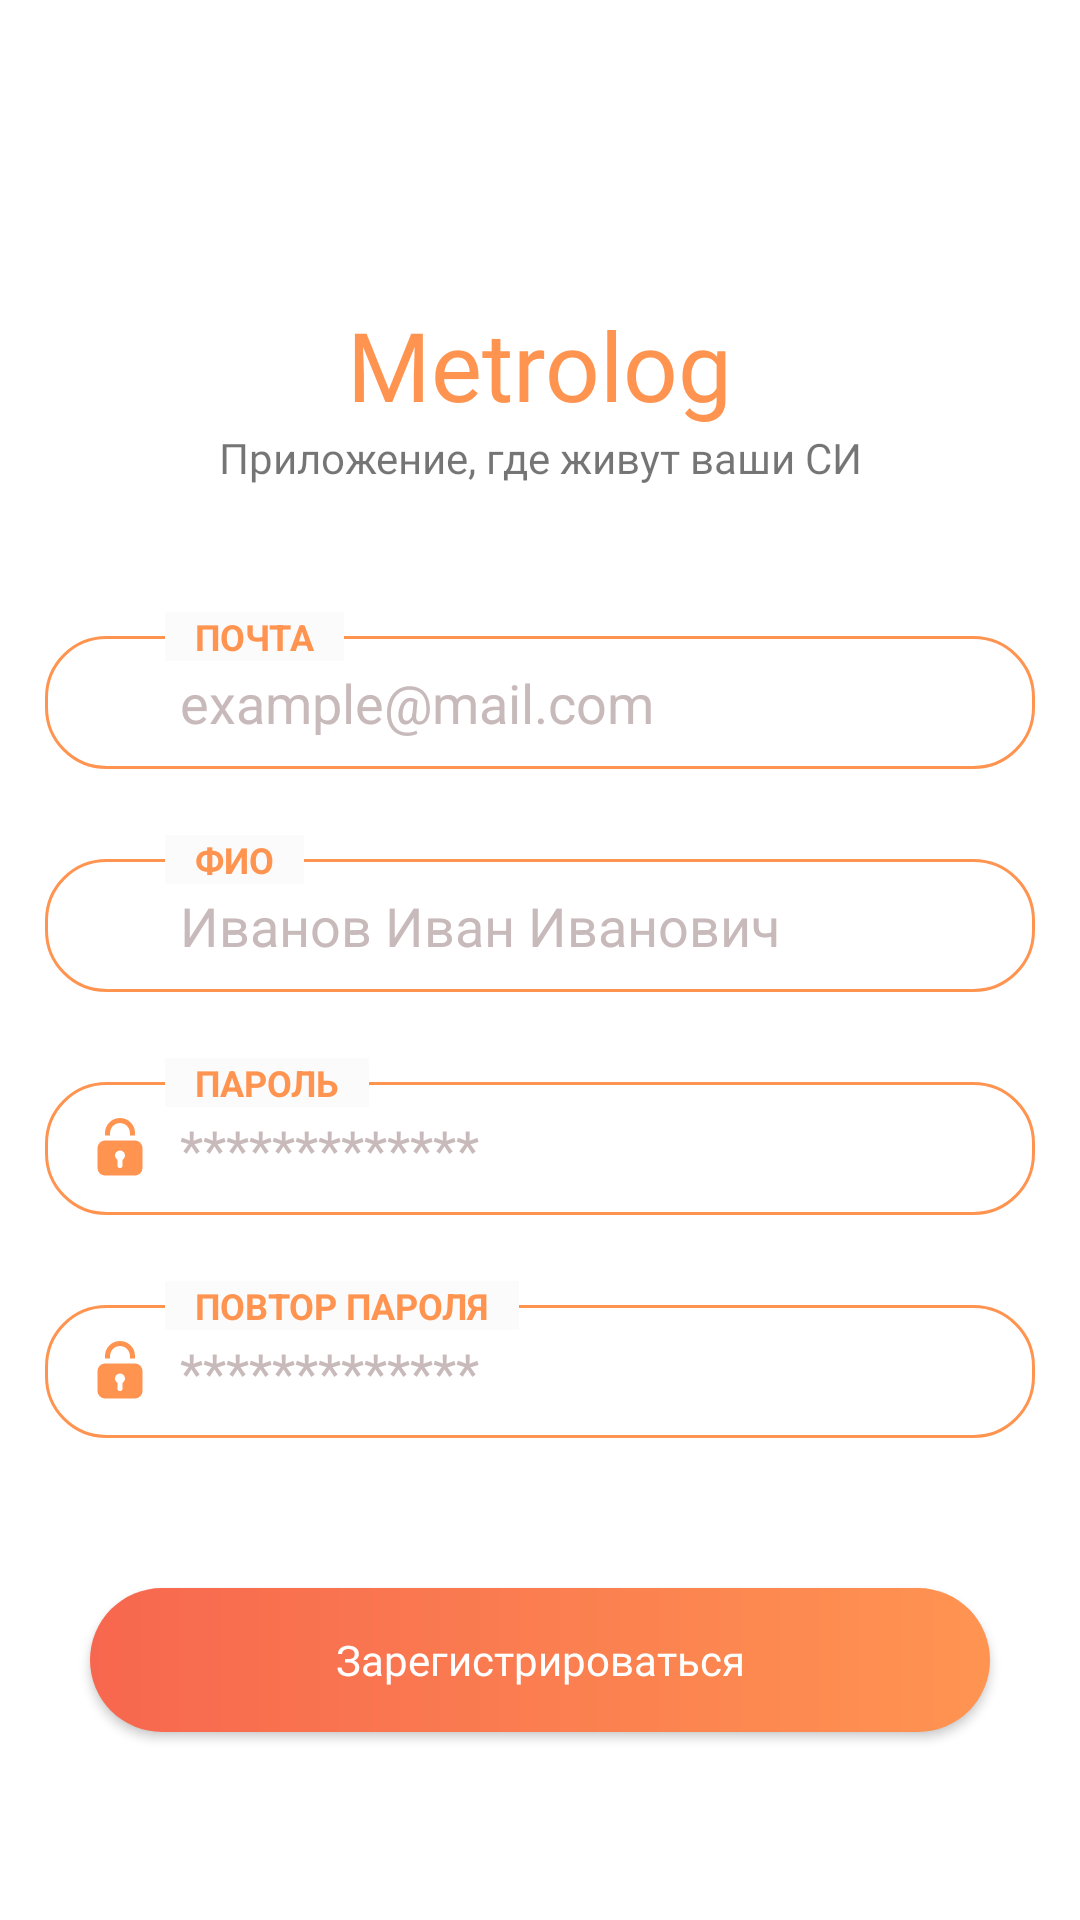

Icon bounding boxes for this 1080px×1920px phone screenshot, format (x1, y1, x2, y2):
lock: (97, 1118, 143, 1176), (97, 1341, 143, 1399)
